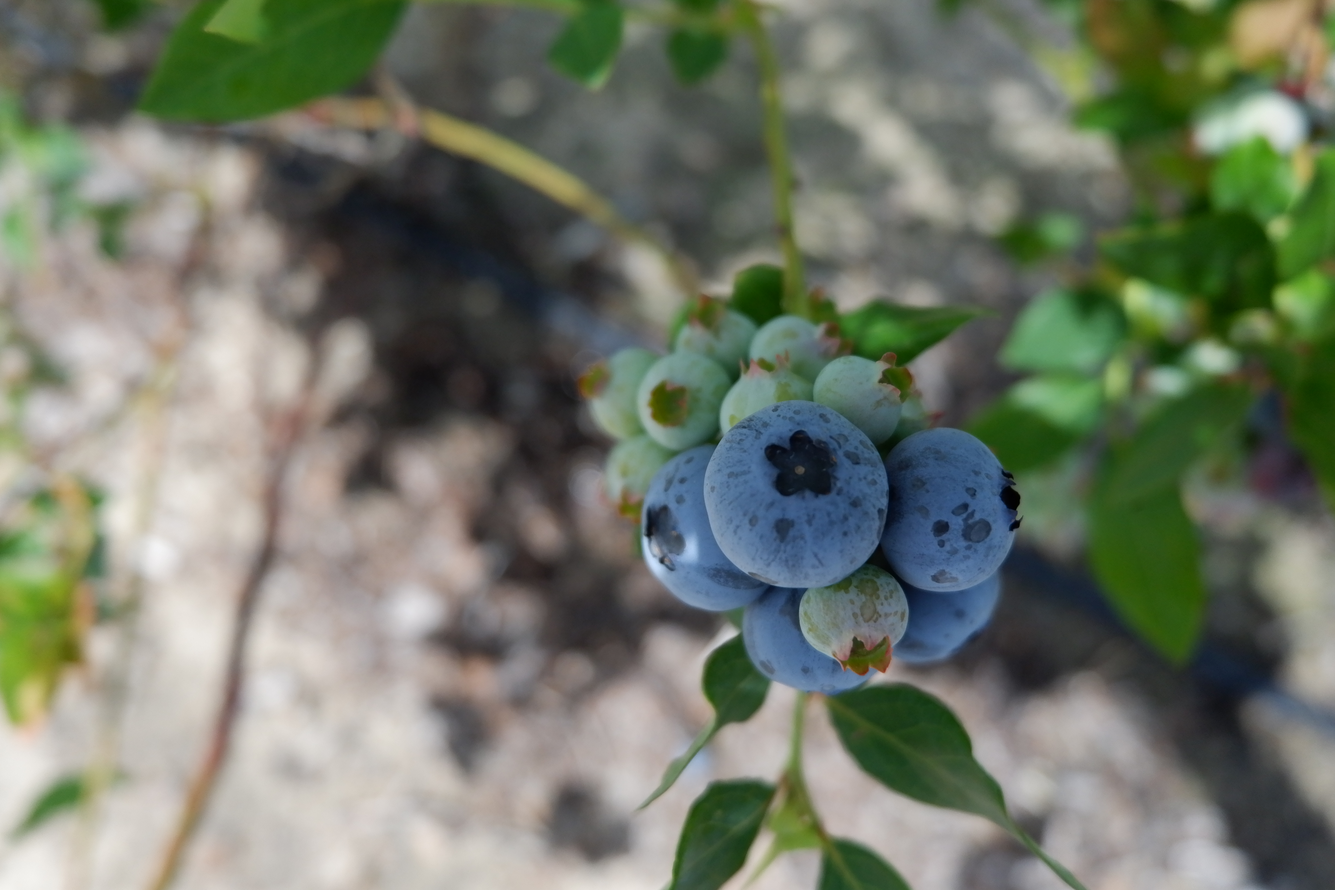Immature: (801, 569, 907, 670), (639, 354, 728, 448), (816, 353, 907, 443), (748, 314, 856, 386), (578, 351, 653, 436), (720, 361, 809, 432), (606, 434, 673, 518), (677, 301, 754, 374), (892, 395, 942, 446)
Mature: (704, 402, 882, 584), (884, 432, 1019, 587), (643, 446, 762, 607), (743, 588, 870, 691), (897, 575, 996, 660)
